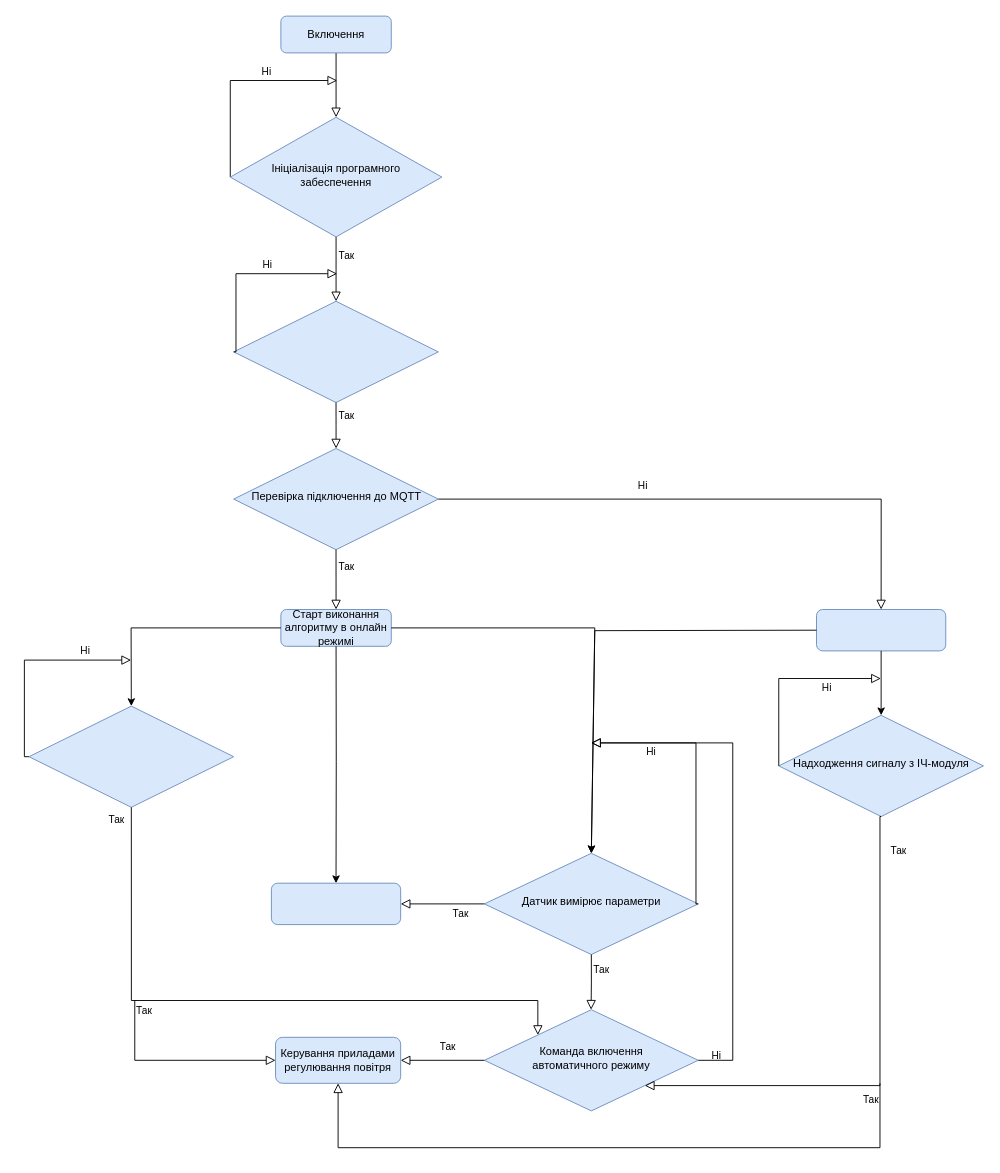
Image size: 1000x1173. Some labels were removed from this diagram. The shapes that lost their labels are listed below. From the top down, each one's centre as x and y in pixels, then its label:
At pixel 335 351: "Перевірка підключення функціональних вузлів".
At pixel 881 630: "Старт виконання алгоритму в штатному режимі".
At pixel 131 756: "Надходження команди з сервера".
At pixel 335 903: "Збереження дагих на сервері".
